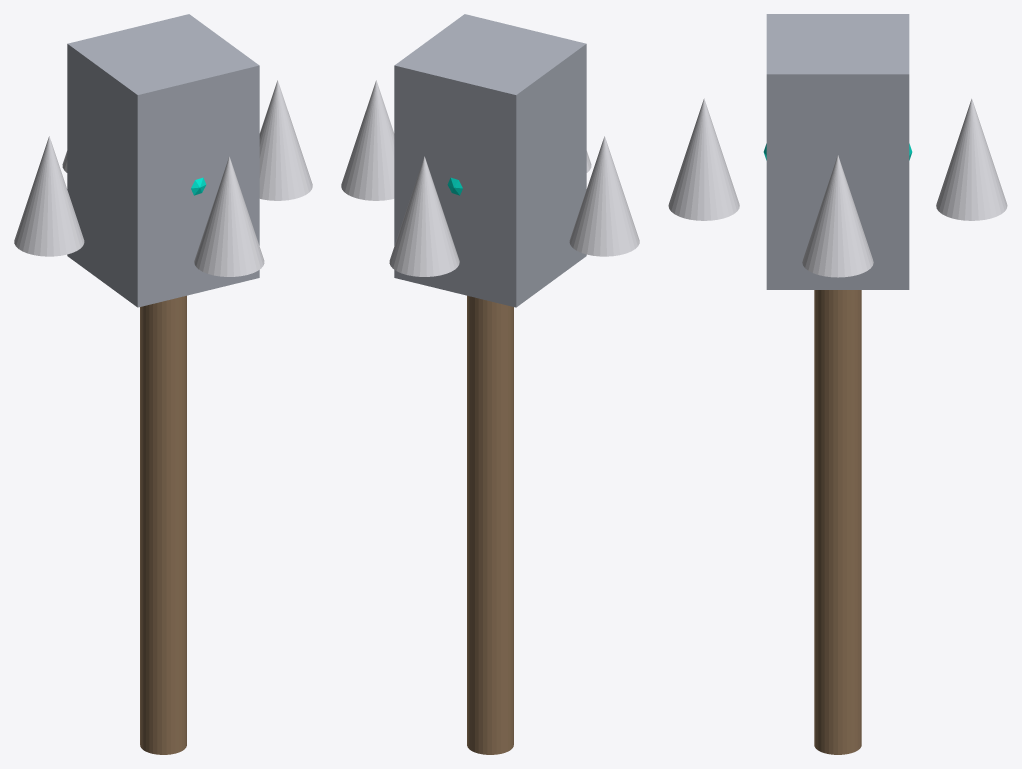
The model's file is megabonk_club.glb.
The picture shows the model from 3 angles, left to right: view 1: azimuth 30°, elevation 25°; view 2: azimuth 150°, elevation 25°; view 3: azimuth 270°, elevation 25°; orthographic projection.
Parts seen in each view (by area): view 1: Weapon_Head, Weapon_Shaft, Cone.003, Cone.002, Cone.001; view 2: Weapon_Head, Weapon_Shaft, Cone.003, Cone, Cone.001; view 3: Weapon_Head, Weapon_Shaft, Cone.001, Cone, Cone.002.
Part boxes in pixels (left/top/right/bottom): Weapon_Head: left=67, top=14, right=259, bottom=307; Weapon_Shaft: left=140, top=295, right=186, bottom=754; Cone.003: left=14, top=136, right=84, bottom=256; Cone.002: left=194, top=156, right=264, bottom=276; Cone.001: left=259, top=80, right=312, bottom=200; Weapon_Head: left=394, top=14, right=586, bottom=307; Weapon_Shaft: left=467, top=295, right=513, bottom=754; Cone.003: left=569, top=136, right=639, bottom=256; Cone: left=389, top=156, right=459, bottom=276; Cone.001: left=341, top=80, right=394, bottom=200; Weapon_Head: left=766, top=14, right=909, bottom=289; Weapon_Shaft: left=814, top=290, right=861, bottom=754; Cone.001: left=802, top=155, right=873, bottom=277; Cone: left=936, top=98, right=1007, bottom=220; Cone.002: left=668, top=98, right=739, bottom=220.
Size of the model in its own units: 1.14 by 2.6 by 1.14.
